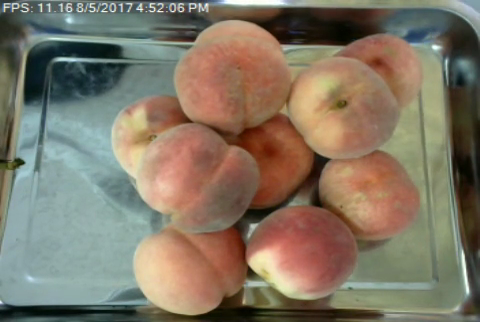Peach: (133, 122, 261, 232), (174, 19, 291, 134), (286, 55, 400, 161), (243, 204, 359, 300), (132, 225, 246, 314), (317, 147, 416, 237), (328, 32, 419, 109)
